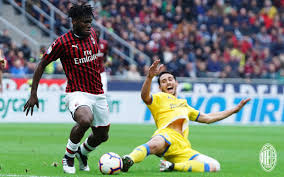10+: (1, 1, 283, 161)
down: (121, 65, 248, 173)
